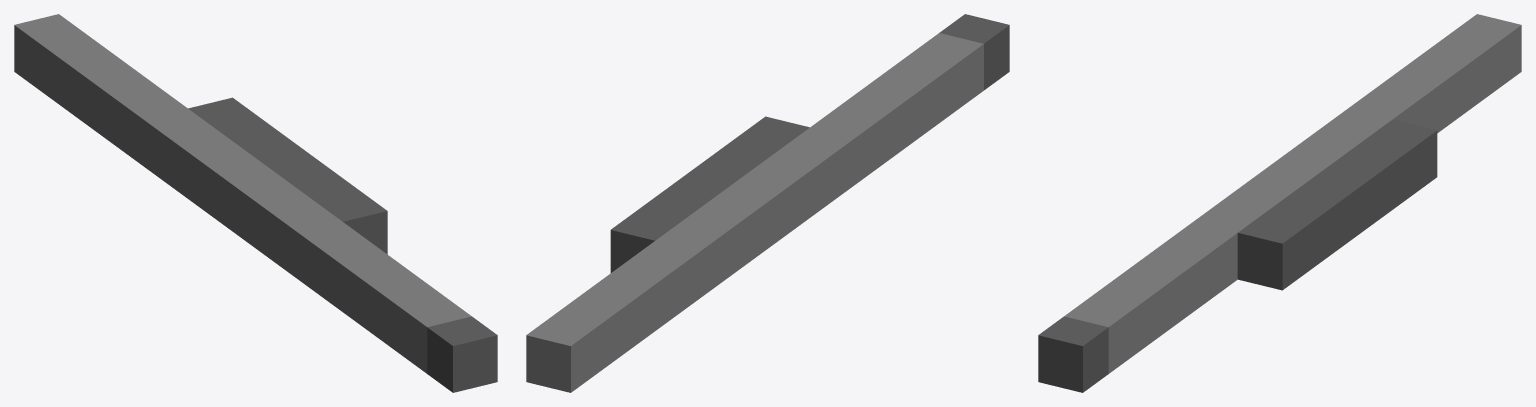
File: Extra-7-Warship_Missile2_L.obj
The picture shows the model from 3 angles, left to right: view 1: azimuth 30°, elevation 25°; view 2: azimuth 150°, elevation 25°; view 3: azimuth 330°, elevation 25°; orthographic projection.
Visible parts, largest first — view 1: Warship_Missile2_L; view 2: Warship_Missile2_L; view 3: Warship_Missile2_L.
Boxes of the visible parts, bbox=[...] form: Warship_Missile2_L: bbox=[14, 14, 497, 392]; Warship_Missile2_L: bbox=[526, 14, 1009, 392]; Warship_Missile2_L: bbox=[1038, 14, 1521, 392].
Bounding box in the file's own units: 0.2 × 0.1 × 1.7.
Materials: 1 (1 with a texture image).
